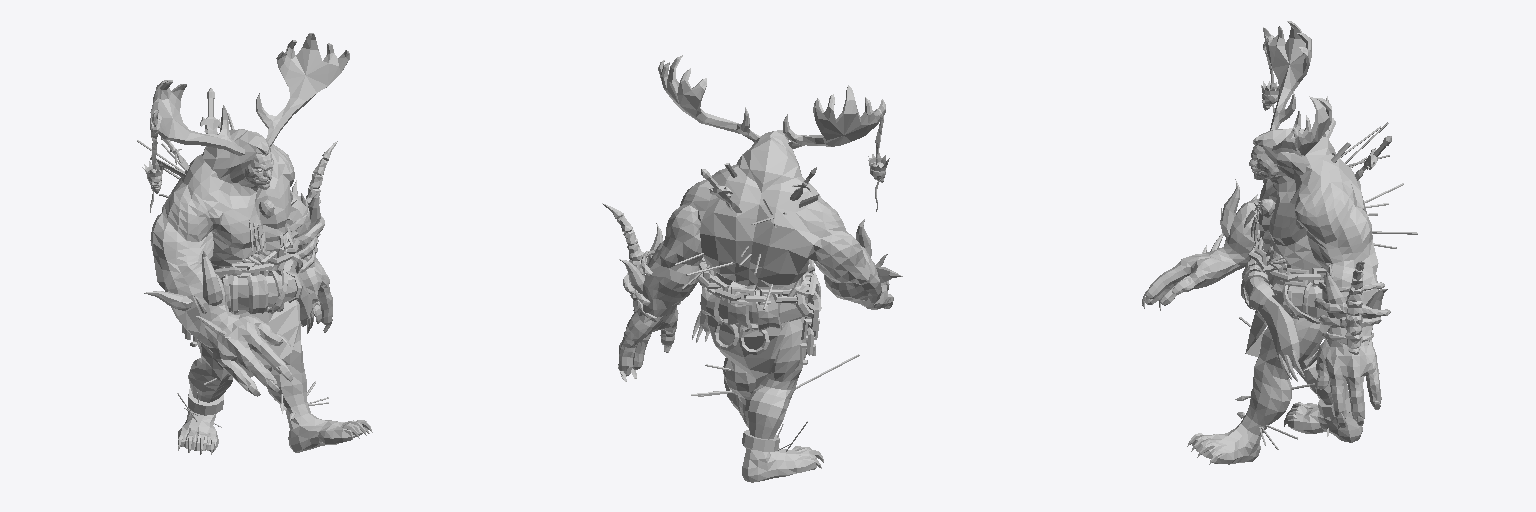
The model's file is walking_000005.obj.
The picture shows the model from 3 angles: view 1: azimuth 30°, elevation 25°; view 2: azimuth 150°, elevation 25°; view 3: azimuth 270°, elevation 25°; orthographic projection.
Visible parts, largest first — view 1: MAW; view 2: MAW; view 3: MAW.
Part boxes in pixels (x1,y1,x2,y2): MAW: (137, 33, 372, 454); MAW: (602, 55, 902, 482); MAW: (1142, 21, 1417, 464).
Bounding box in the file's own units: 15.26 × 22.76 × 14.68.